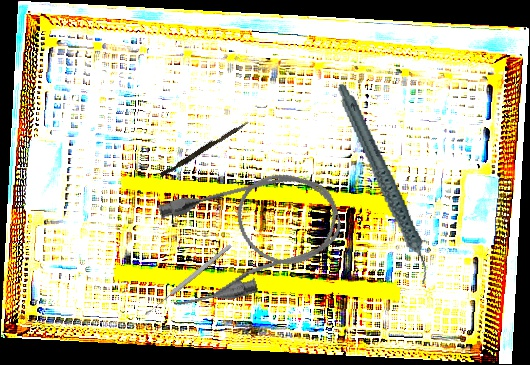Cannula: (146, 157, 353, 316)
Handpiece: (335, 74, 431, 294)
Pusher: (159, 117, 250, 180)
Surgical Spoon: (143, 243, 233, 317)
